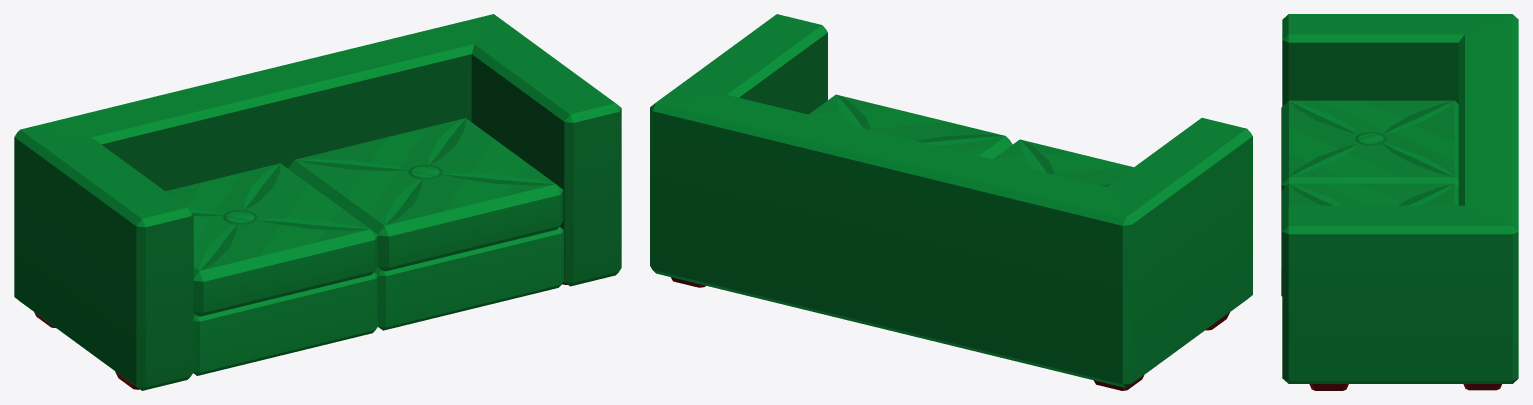
The model's file is sofa_c.fbx.
The picture shows the model from 3 angles, left to right: view 1: azimuth 30°, elevation 25°; view 2: azimuth 150°, elevation 25°; view 3: azimuth 270°, elevation 25°; orthographic projection. The views are drawn at different scales.
Visible parts, largest first — view 1: furniture_mid; view 2: furniture_mid; view 3: furniture_mid.
Part boxes in pixels (bbox=[...]): furniture_mid: bbox=[14, 14, 621, 390]; furniture_mid: bbox=[650, 14, 1252, 390]; furniture_mid: bbox=[1281, 14, 1518, 390].
Size of the model in its own units: 200 by 71.84 by 92.33.
